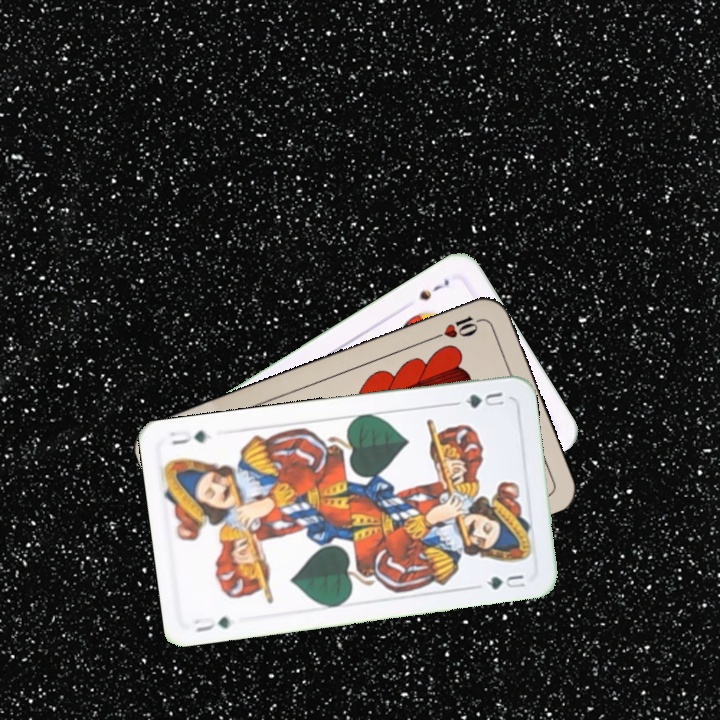GU: (451, 388, 507, 411), (189, 612, 233, 635)
H10: (428, 311, 485, 343)
S7: (415, 274, 452, 303)
